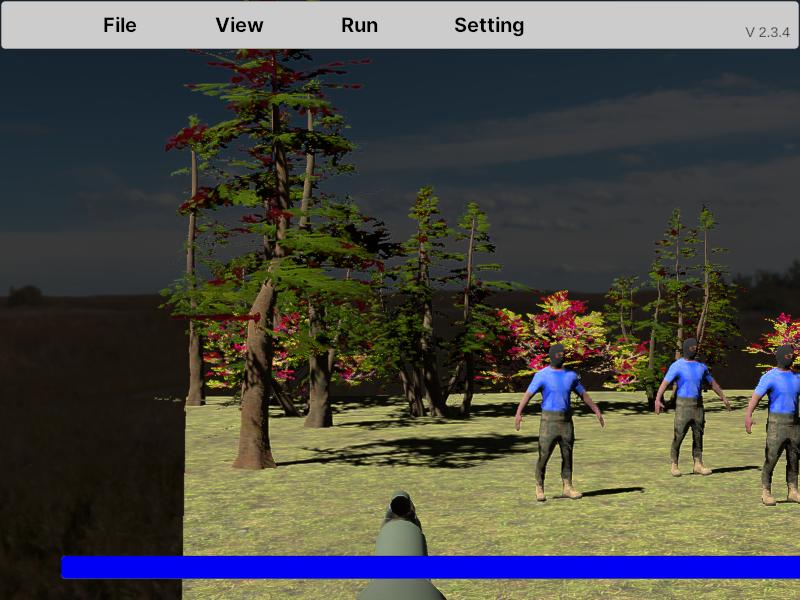Human: (515, 344, 604, 501), (654, 335, 731, 478), (744, 344, 800, 505)
